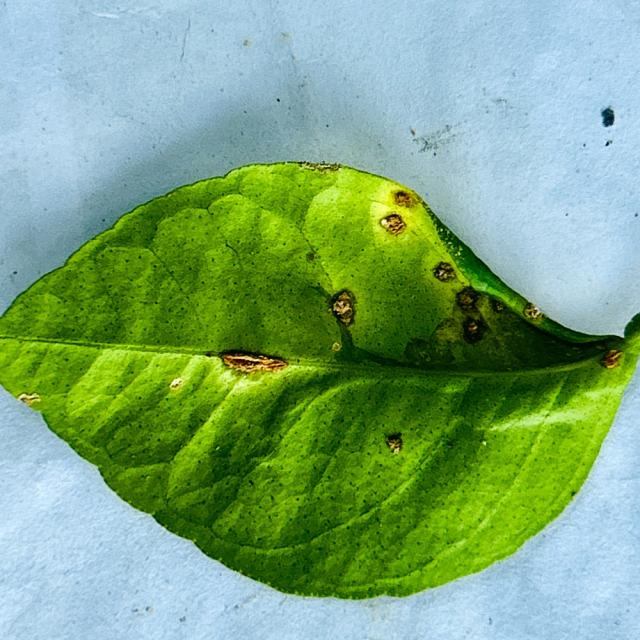Anthracnose: (322, 288, 377, 362), (199, 349, 295, 378), (329, 290, 356, 326), (461, 314, 488, 343), (379, 212, 407, 235), (455, 287, 480, 312), (431, 261, 458, 283), (297, 160, 339, 173), (599, 349, 623, 368), (384, 432, 404, 454), (16, 391, 42, 406), (393, 189, 414, 207), (600, 106, 615, 128)
Lemon: (0, 161, 639, 604)
